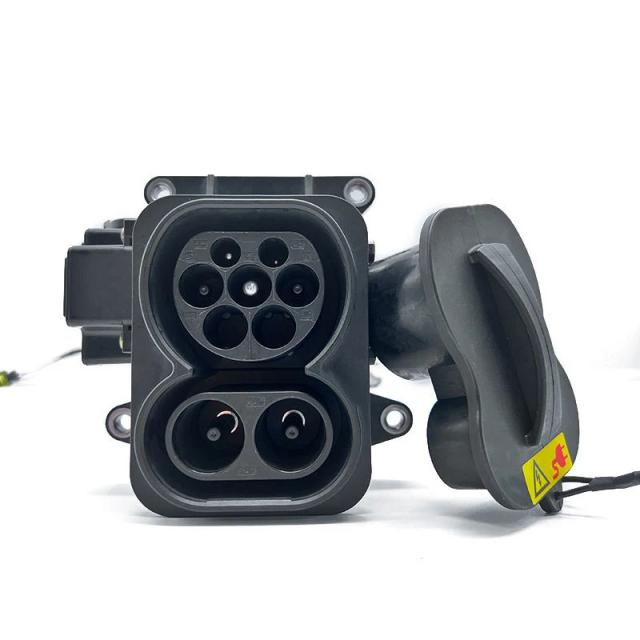inlet: (173, 231, 325, 361)
inlet-above-left: (211, 237, 241, 268)
inlet-above-right: (258, 237, 289, 268)
inlet-below-left: (203, 304, 248, 350)
inlet-below-right: (251, 304, 297, 350)
inlet-circle: (227, 263, 272, 308)
inlet-circle-left: (179, 263, 223, 309)
inlet-circle-right: (276, 263, 320, 308)
inlet-minus: (254, 397, 326, 473)
inlet-plus: (172, 399, 245, 475)
